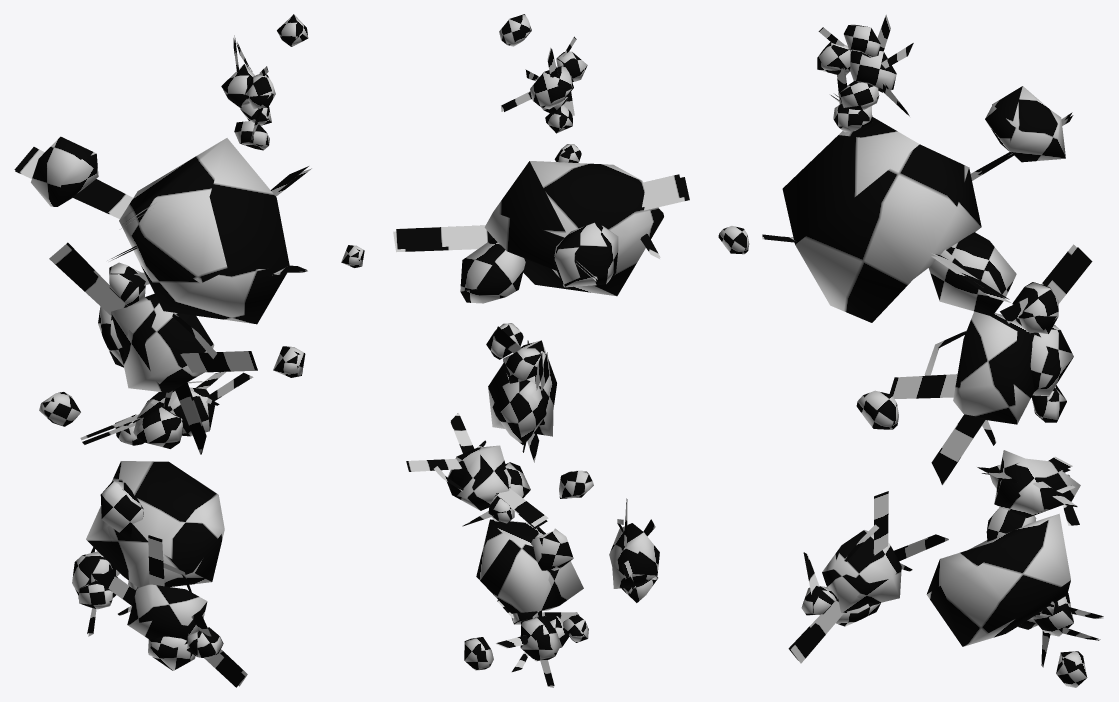
File: zone_asteroid_pirates3.obj
The picture shows the model from 3 angles, left to right: view 1: azimuth 30°, elevation 25°; view 2: azimuth 150°, elevation 25°; view 3: azimuth 270°, elevation 25°; orthographic projection. The views are drawn at different scales.
Visible parts, largest first — view 1: cluster; view 2: cluster; view 3: cluster.
Boxes of the visible parts, left/top/right/bottom form: cluster: left=14, top=14, right=364, bottom=687; cluster: left=393, top=14, right=689, bottom=687; cluster: left=718, top=14, right=1103, bottom=687.
Bounding box in the file's own units: 255 × 603 × 299.
1 material, 1 textured.
